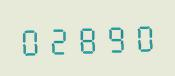eight: (74, 20, 101, 55)
nine: (102, 19, 129, 54)
two: (46, 21, 73, 56)
zero: (18, 22, 45, 57), (130, 18, 157, 53)
